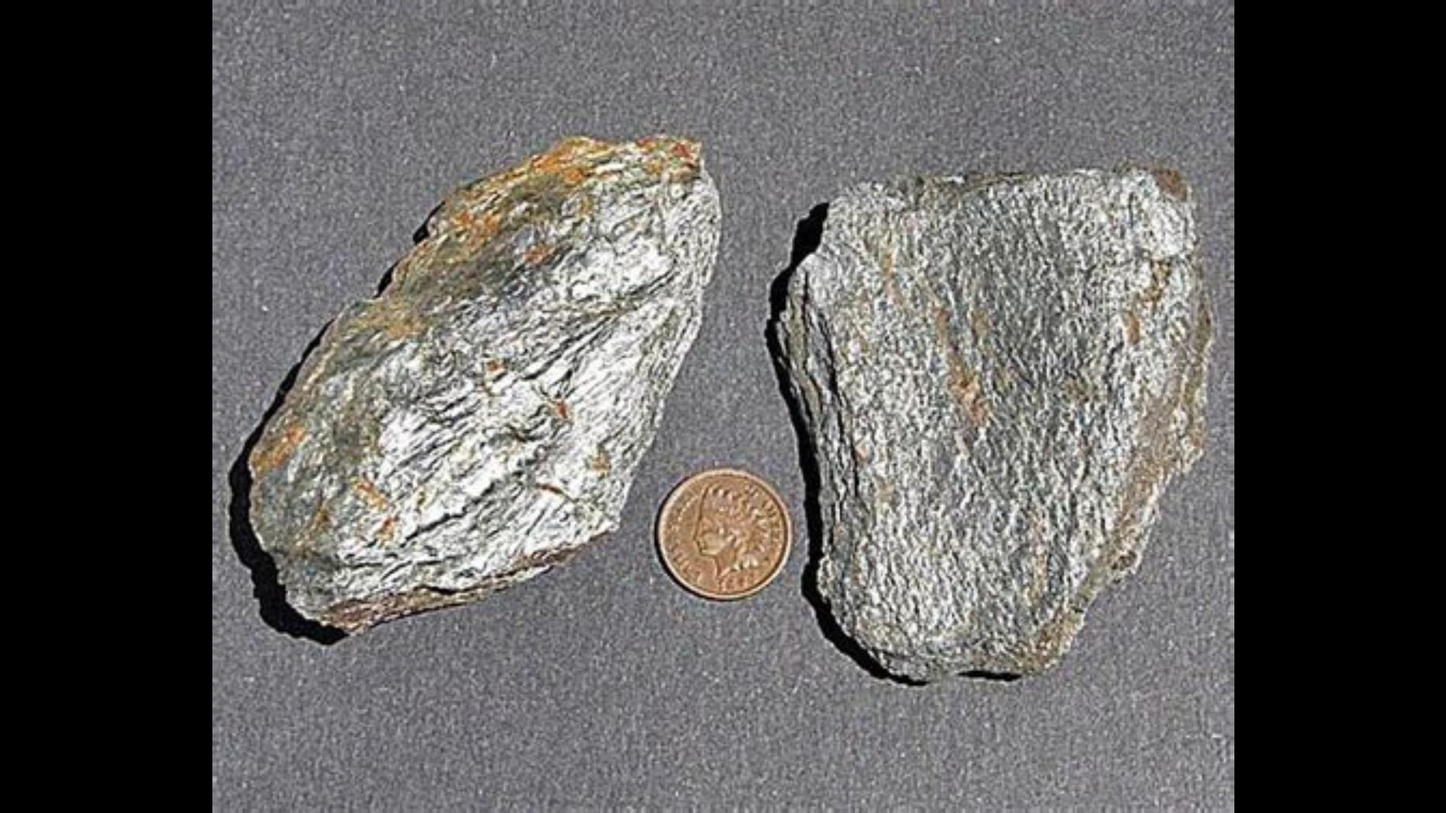rock: (243, 137, 724, 631), (775, 169, 1222, 684)
